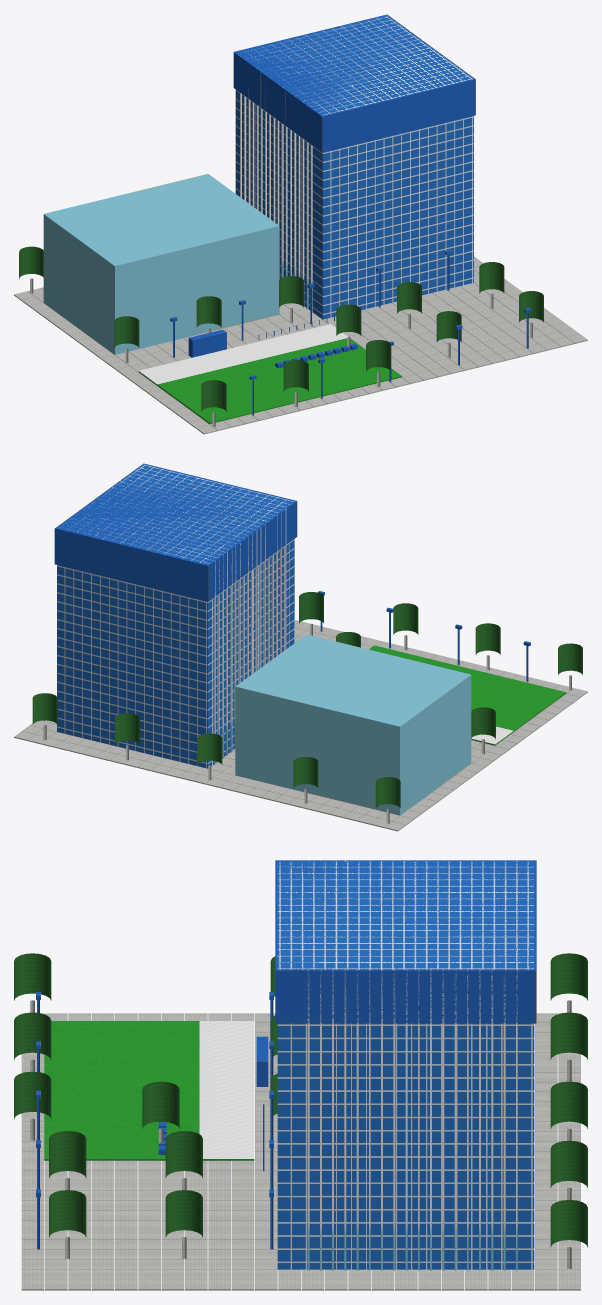
3 renders of one model, top to bottom at view 1: azimuth 30°, elevation 25°; view 2: azimuth 150°, elevation 25°; view 3: azimuth 270°, elevation 25°, orthographic. The views are drawn at different scales.
Visible parts, largest first — view 1: 28185_B26_Ghent_University_Korea; view 2: 28185_B26_Ghent_University_Korea; view 3: 28185_B26_Ghent_University_Korea.
Boxes of the visible parts, x1,y1,x2,y2 form: 28185_B26_Ghent_University_Korea: (14,14,587,434); 28185_B26_Ghent_University_Korea: (14,463,587,831); 28185_B26_Ghent_University_Korea: (14,860,587,1290).
Bounding box in the file's own units: 55.95 × 28.5 × 49.2.
Materials: 1 (1 with a texture image).
